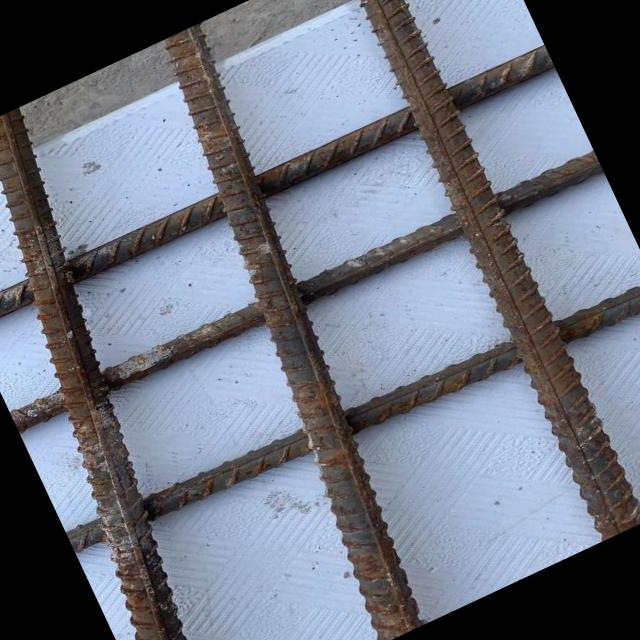ribbed bar: (103, 23, 470, 640), (9, 140, 604, 444), (65, 260, 640, 574), (0, 36, 555, 339), (331, 0, 640, 541), (0, 107, 290, 640)
